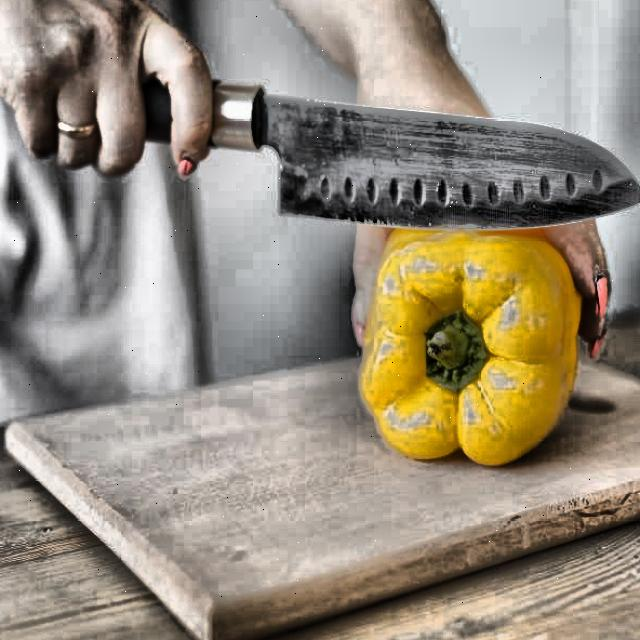knife: (115, 71, 640, 228)
